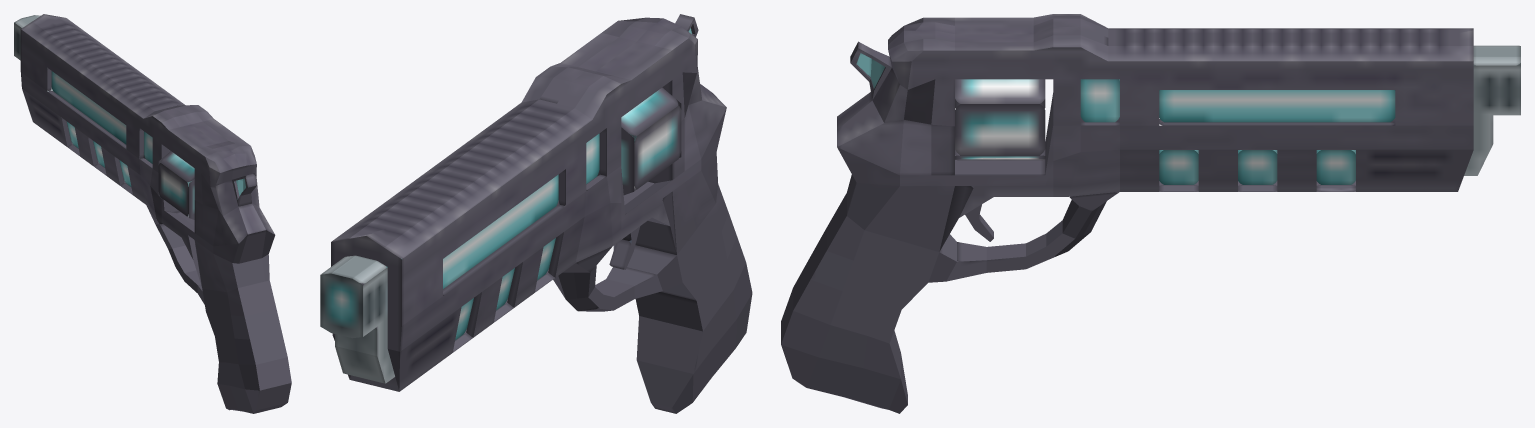
File: V1EnergyPistol.fbx
3 views of the same model, side by side, from view 1: azimuth 30°, elevation 25°; view 2: azimuth 150°, elevation 25°; view 3: azimuth 270°, elevation 25° (orthographic). The views are drawn at different scales.
Visible parts, largest first — view 1: Revolver, Drum; view 2: Revolver, Drum; view 3: Revolver, Drum.
Boxes of the visible parts, <box> form: Revolver: <box>14,14,291,413</box>; Drum: <box>158,151,237,219</box>; Revolver: <box>320,14,752,413</box>; Drum: <box>621,87,681,195</box>; Revolver: <box>781,14,1520,413</box>; Drum: <box>955,79,1045,160</box>.
Bounding box in the file's own units: 15.63 × 67.01 × 118.
1 material, 1 textured.
